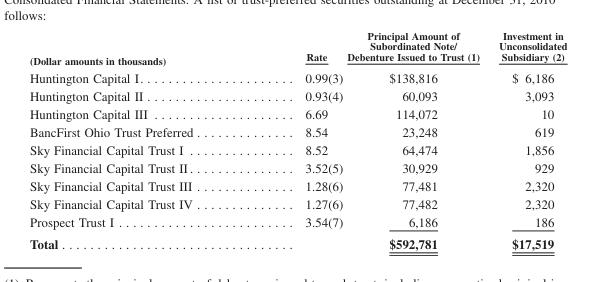table: (28, 29, 566, 251)
table column: (28, 29, 248, 251), (344, 29, 488, 251), (248, 29, 334, 251), (488, 29, 566, 251), (334, 29, 344, 251)
table column header: (28, 29, 566, 86)
table row: (28, 29, 566, 86), (28, 212, 566, 232), (28, 232, 566, 251), (28, 86, 566, 104), (28, 104, 566, 122), (28, 122, 566, 140), (28, 140, 566, 158), (28, 158, 566, 176), (28, 176, 566, 194), (28, 194, 566, 212)
